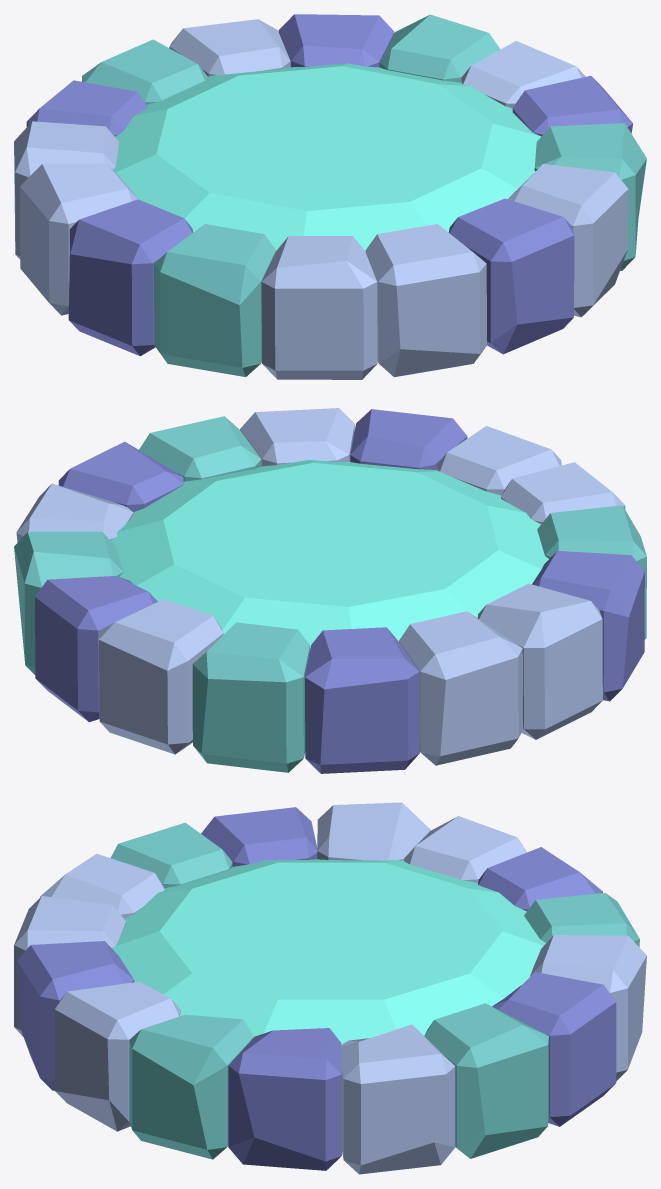
The model's file is Platform1.fbx.
The picture shows the model from 3 angles, top to bottom: view 1: azimuth 30°, elevation 25°; view 2: azimuth 150°, elevation 25°; view 3: azimuth 270°, elevation 25°; orthographic projection.
Visible parts, largest first — view 1: Platform1; view 2: Platform1; view 3: Platform1.
Part boxes in pixels (bbox=[...]): Platform1: bbox=[14, 14, 646, 379]; Platform1: bbox=[14, 408, 646, 773]; Platform1: bbox=[14, 802, 646, 1174].
Size of the model in its own units: 407 by 101 by 404.
